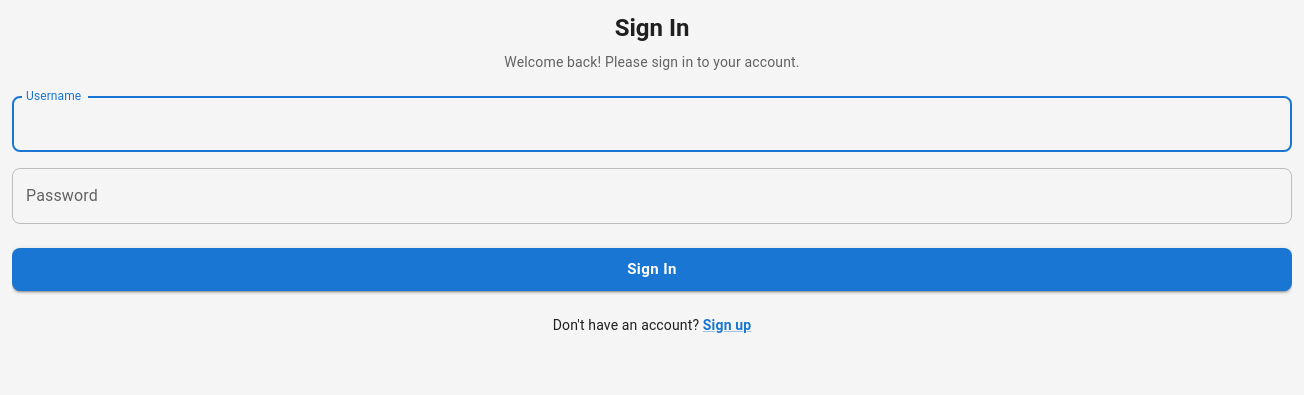
LoginPage › shows validation errors for empty submit
Click the button "Sign In" at (652, 270), box [12, 248, 1292, 291]
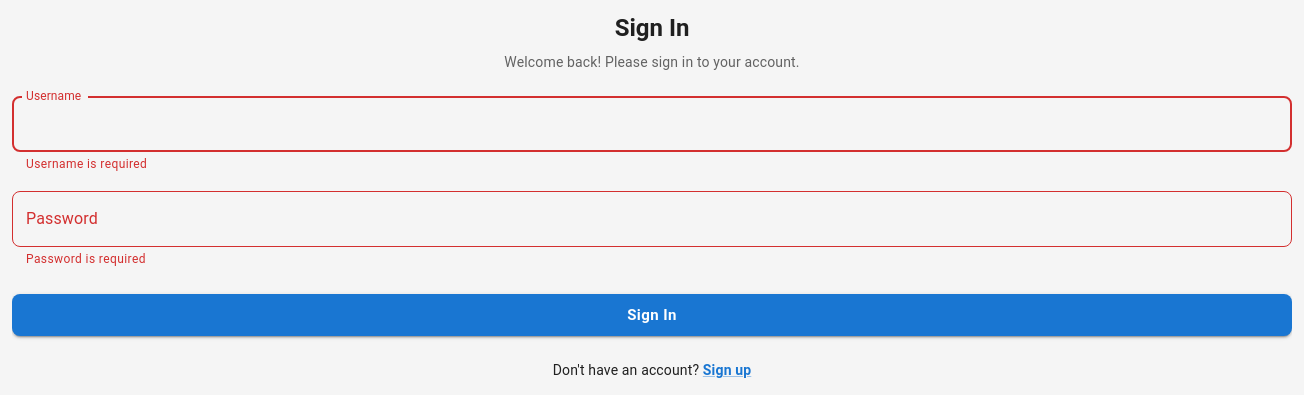
Expected: the text "Username is required" is shown, [26, 157, 147, 171]
Expected: the text "Password is required" is shown, [26, 252, 146, 266]
